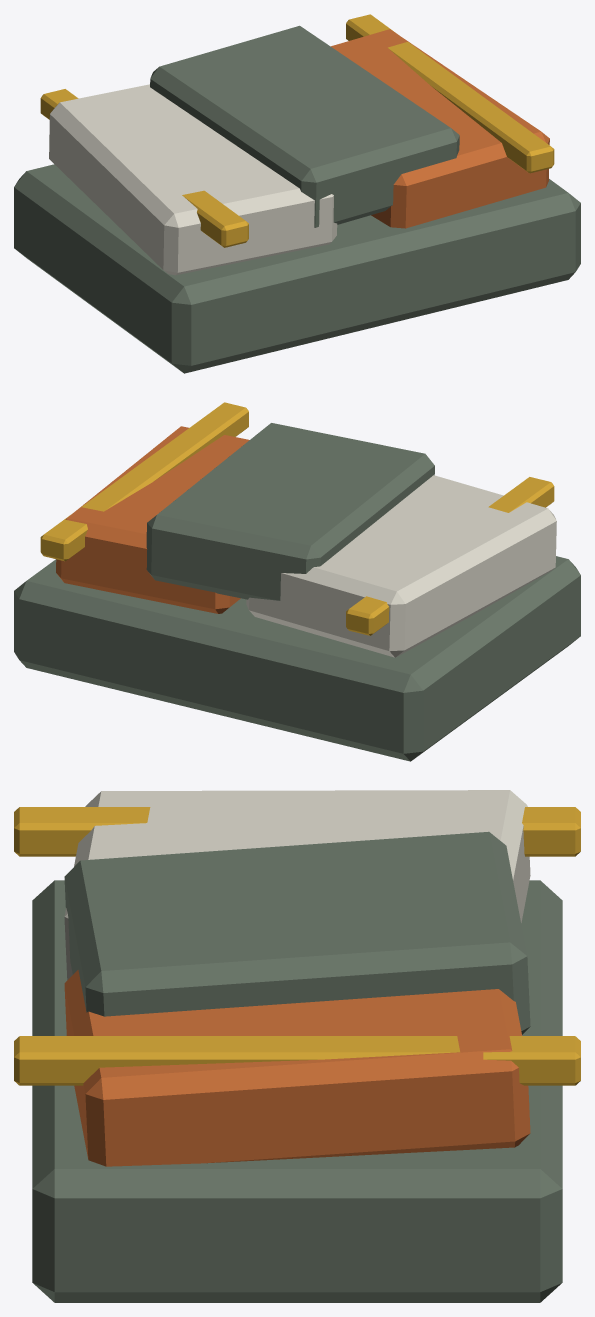
The model's file is PRP_CITY_027_cloth_tarp_bundle.glb.
3 renders of one model, top to bottom at view 1: azimuth 30°, elevation 25°; view 2: azimuth 150°, elevation 25°; view 3: azimuth 270°, elevation 25°, orthographic. The views are drawn at different scales.
Visible parts, largest first — view 1: PRP_CITY_027_cloth_tarp_bundle_RenderMesh; view 2: PRP_CITY_027_cloth_tarp_bundle_RenderMesh; view 3: PRP_CITY_027_cloth_tarp_bundle_RenderMesh.
Part boxes in pixels (<box>): PRP_CITY_027_cloth_tarp_bundle_RenderMesh: <box>14,14,580,373</box>; PRP_CITY_027_cloth_tarp_bundle_RenderMesh: <box>14,402,580,761</box>; PRP_CITY_027_cloth_tarp_bundle_RenderMesh: <box>14,790,580,1302</box>.
Size of the model in its own units: 1.18 by 0.4832 by 0.92.
